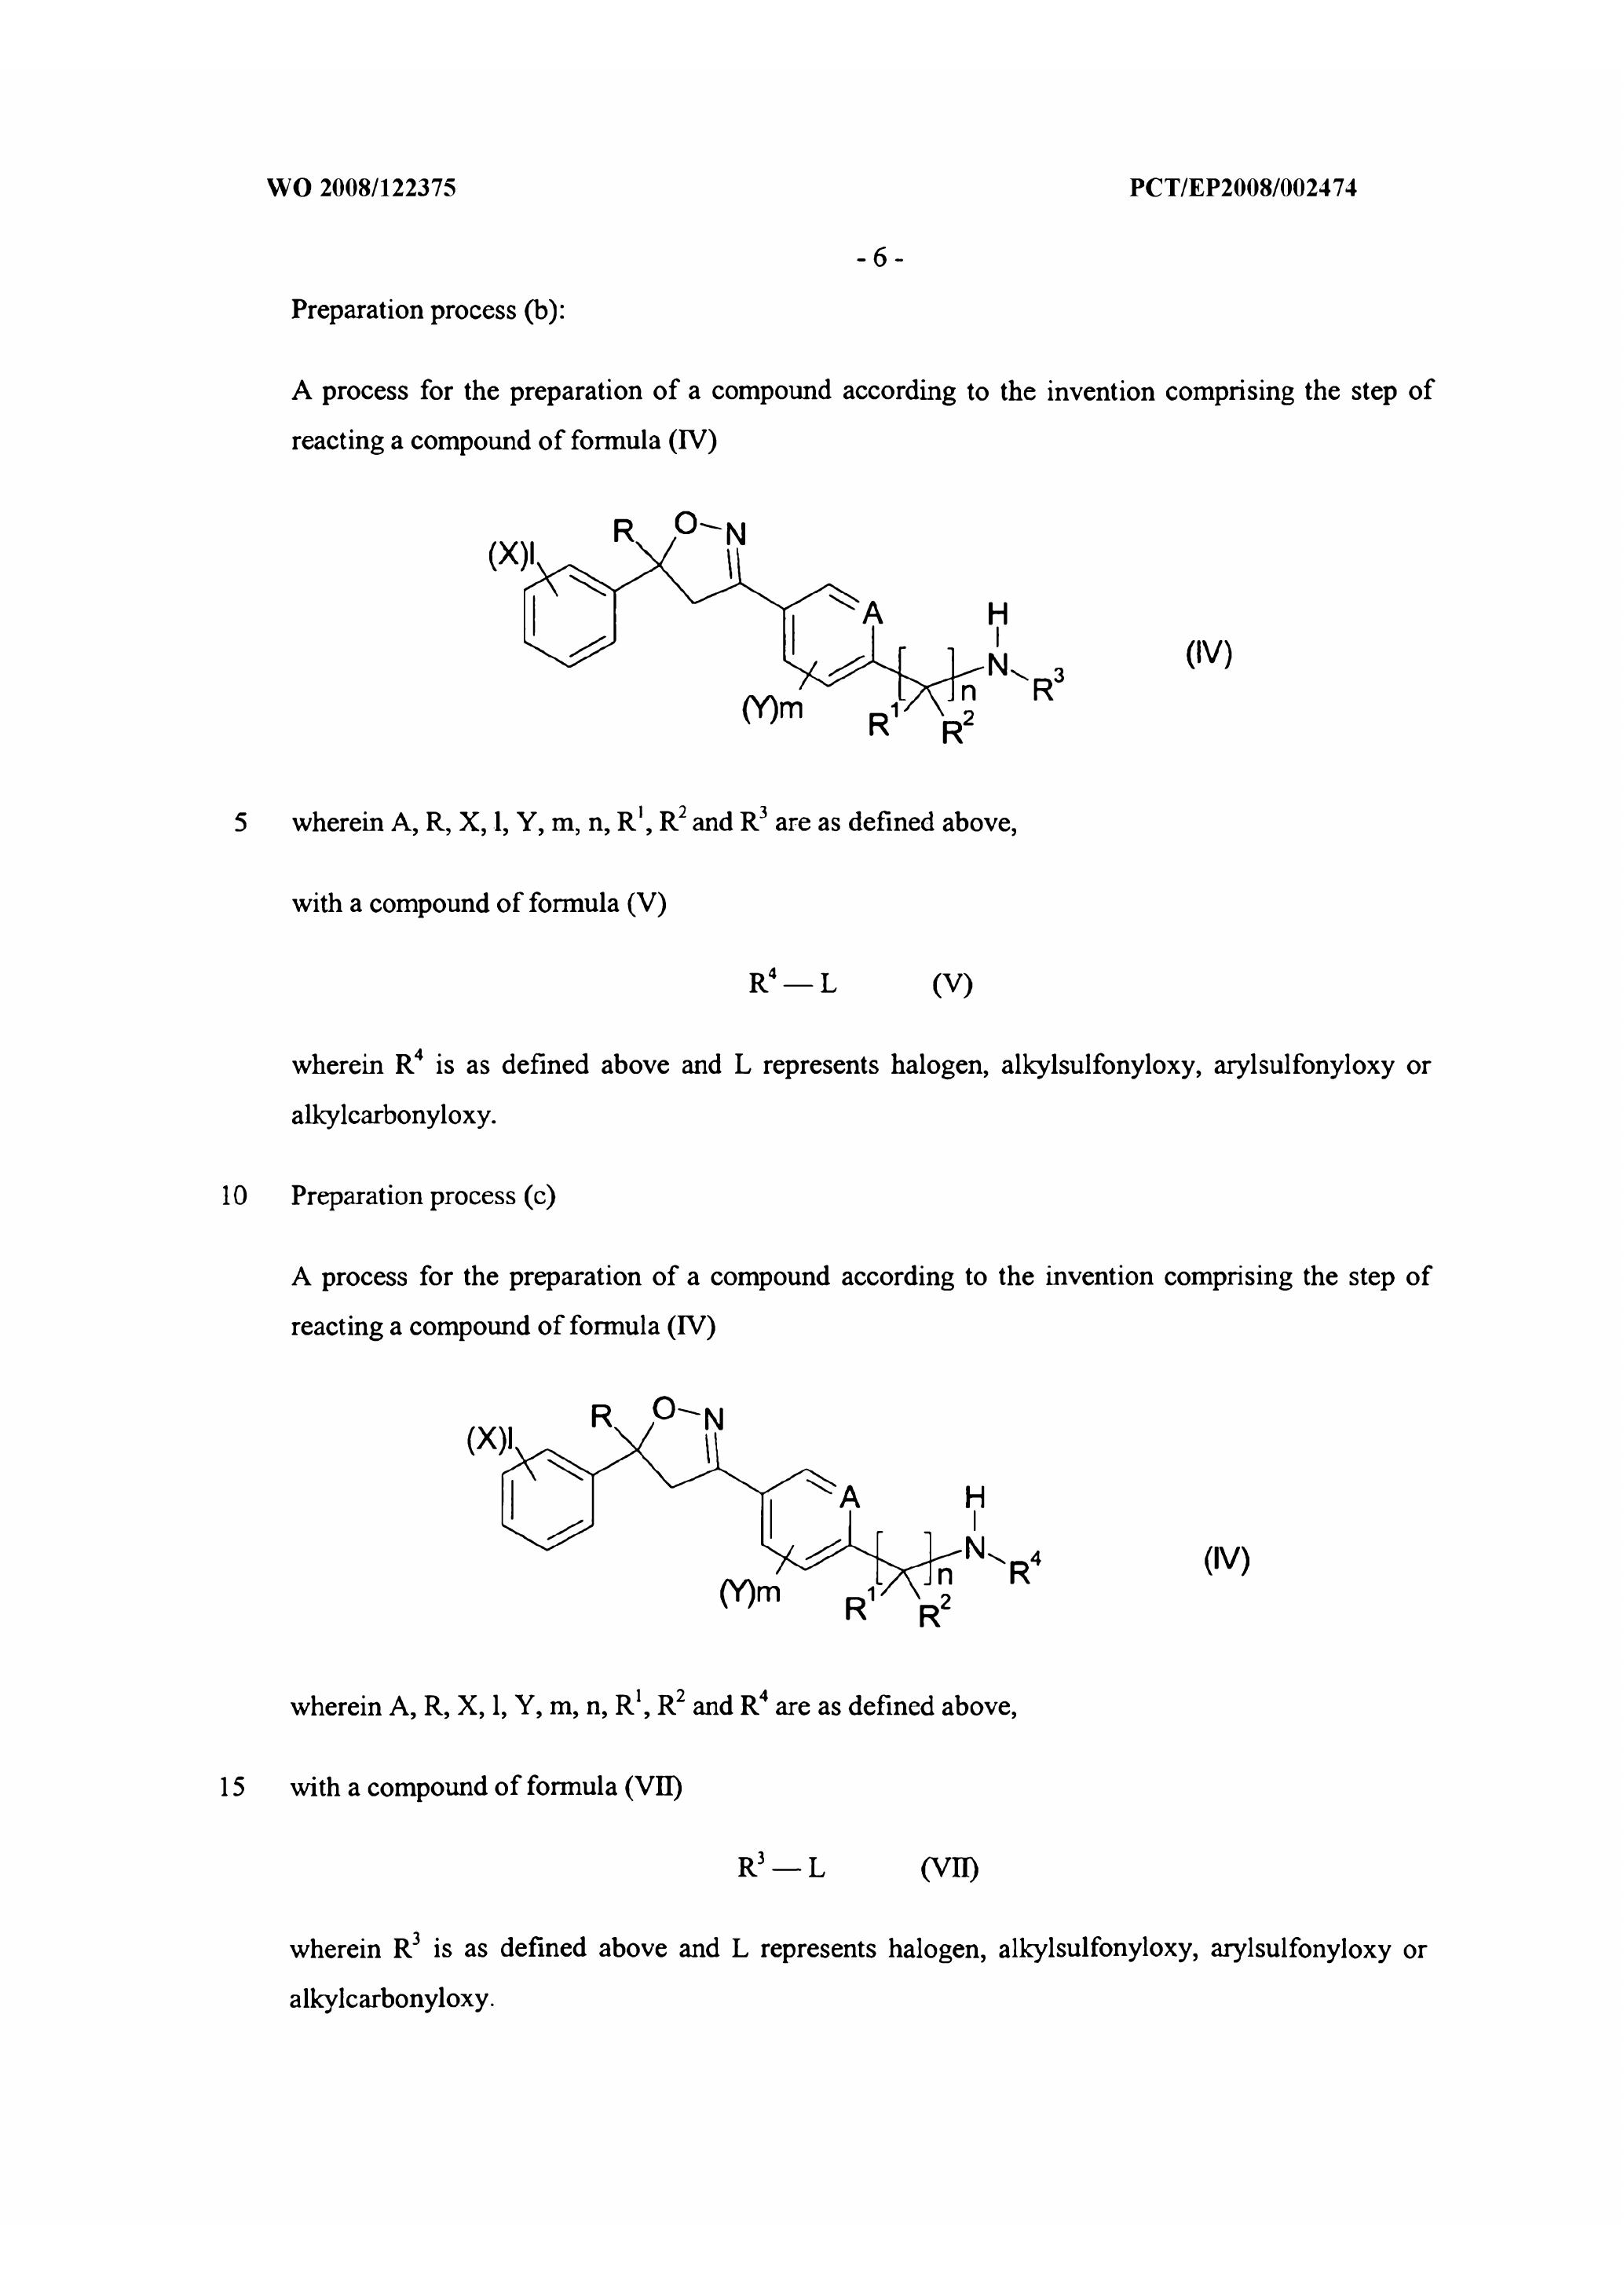reactions: (243, 338, 1540, 1150)
